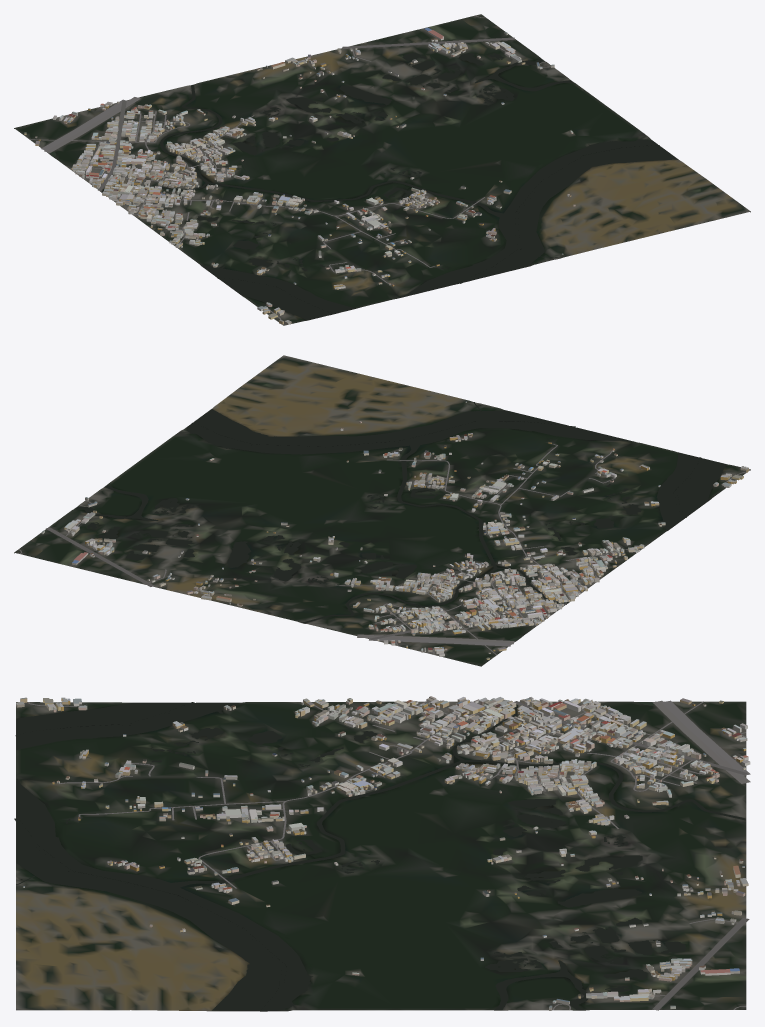
The picture shows the model from 3 angles, top to bottom: view 1: azimuth 30°, elevation 25°; view 2: azimuth 150°, elevation 25°; view 3: azimuth 270°, elevation 25°; orthographic projection. The views are drawn at different scales.
Visible parts, largest first — view 1: ground, water, buildings, roads; view 2: ground, water, buildings, roads; view 3: ground, water, buildings, roads.
Boxes of the visible parts, x1=… form: ground: x1=14, y1=14, x2=750, y2=325; water: x1=50, y1=52, x2=677, y2=319; buildings: x1=24, y1=27, x2=575, y2=324; roads: x1=29, y1=15, x2=550, y2=319; ground: x1=14, y1=355, x2=750, y2=666; water: x1=75, y1=402, x2=726, y2=640; buildings: x1=41, y1=401, x2=748, y2=659; roads: x1=18, y1=444, x2=745, y2=655; ground: x1=16, y1=701, x2=746, y2=1011; water: x1=14, y1=702, x2=745, y2=1011; buildings: x1=16, y1=696, x2=750, y2=1010; roads: x1=28, y1=700, x2=750, y2=1010.
Size of the model in its own units: 1413 by 16.93 by 1414.
